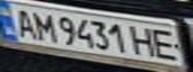1: (106, 20, 130, 54)
3: (90, 19, 112, 52)
4: (72, 17, 93, 48)
9: (54, 14, 78, 45)
A: (6, 7, 39, 38)
E: (148, 26, 181, 61)
H: (127, 25, 160, 57)
M: (30, 10, 57, 42)
